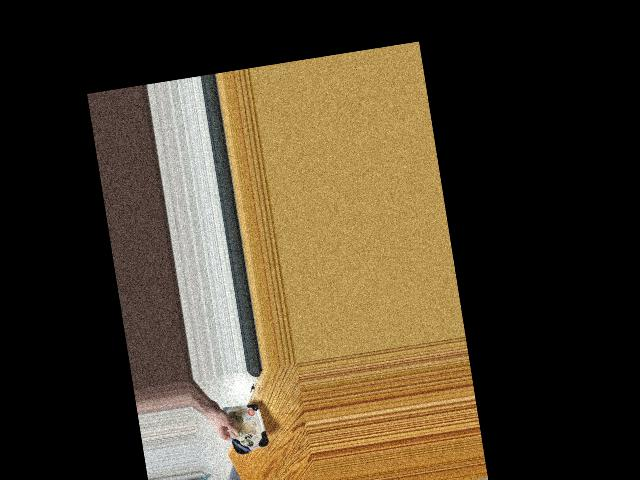cheese: (222, 396, 265, 457)
